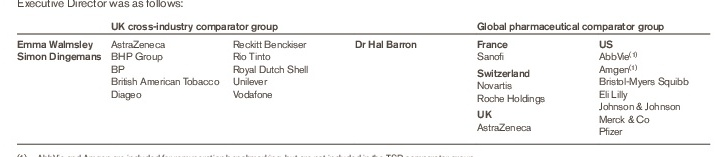table: (0, 0, 726, 157)
